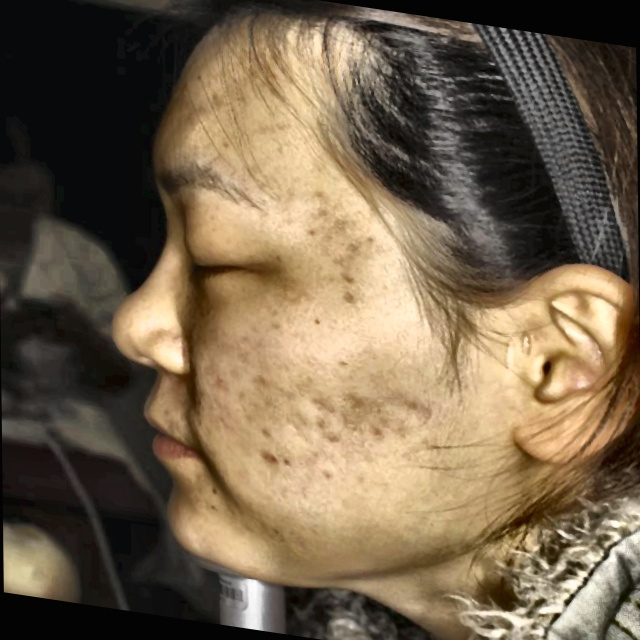comedone: (201, 366, 236, 407), (255, 444, 288, 480)
